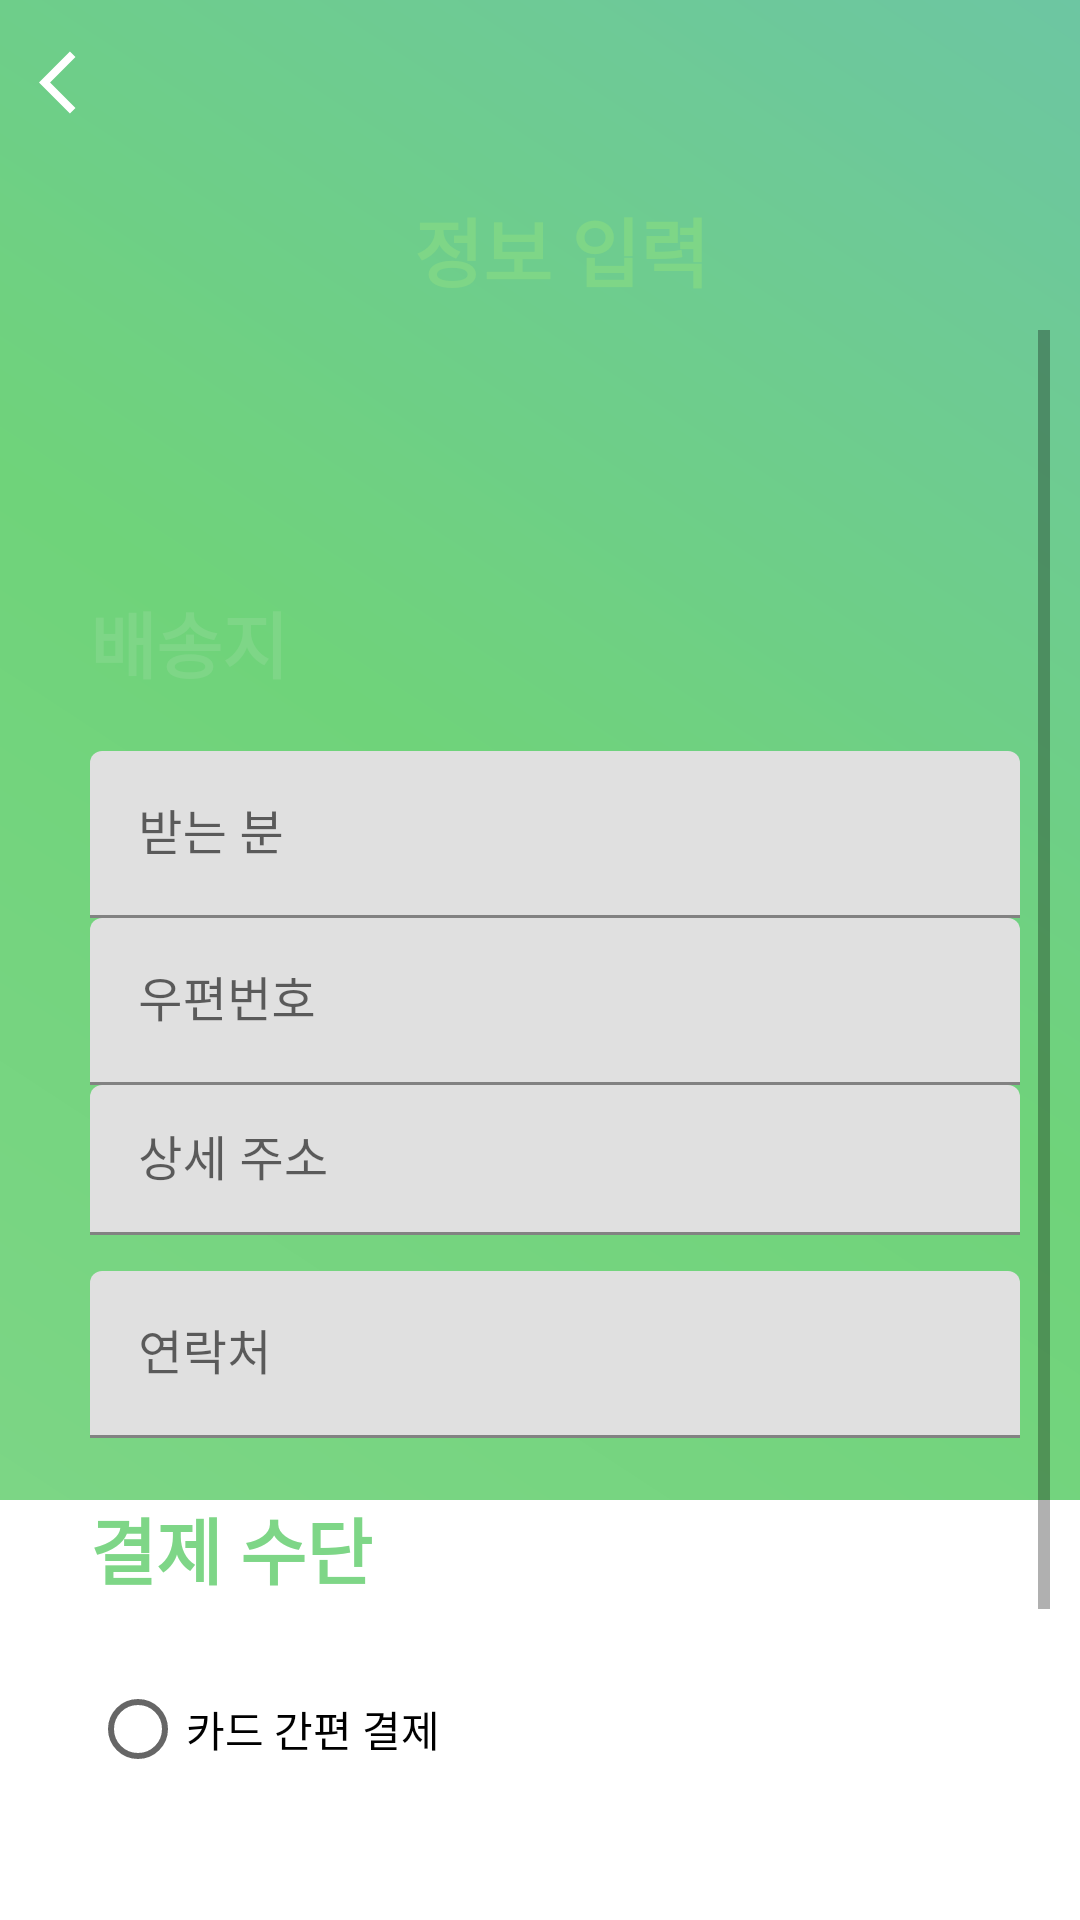

Point at icon controls on the screen. Image size 1080 x 1920, points as (x=x, y=y).
arrow back: (x=57, y=82)
